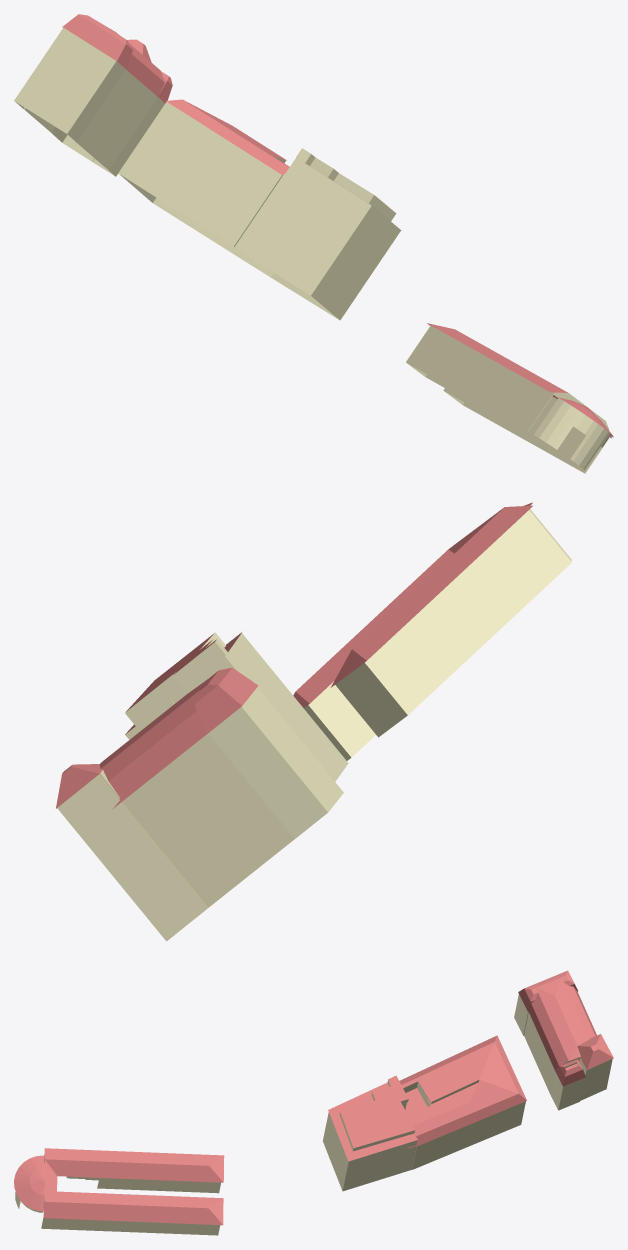
The model's file is tile_058.glb.
The picture shows the model from 3 angles, top to bottom: view 1: azimuth 30°, elevation 25°; view 2: azimuth 150°, elevation 25°; view 3: azimuth 270°, elevation 25°; orthographic projection. The views are drawn at different scales.
Parts seen in each view (by area): view 1: Batched_Building_ID_59114F74-258C-4155-A744-542E1B2F22BB; view 2: Batched_Building_ID_59114F74-258C-4155-A744-542E1B2F22BB; view 3: Batched_Building_ID_59114F74-258C-4155-A744-542E1B2F22BB.
Part boxes in pixels (left/top/right/bottom): Batched_Building_ID_59114F74-258C-4155-A744-542E1B2F22BB: left=14, top=14, right=613, bottom=473; Batched_Building_ID_59114F74-258C-4155-A744-542E1B2F22BB: left=56, top=502, right=571, bottom=941; Batched_Building_ID_59114F74-258C-4155-A744-542E1B2F22BB: left=14, top=970, right=613, bottom=1235.
Size of the model in its own units: 77.28 by 74.4 by 197.
